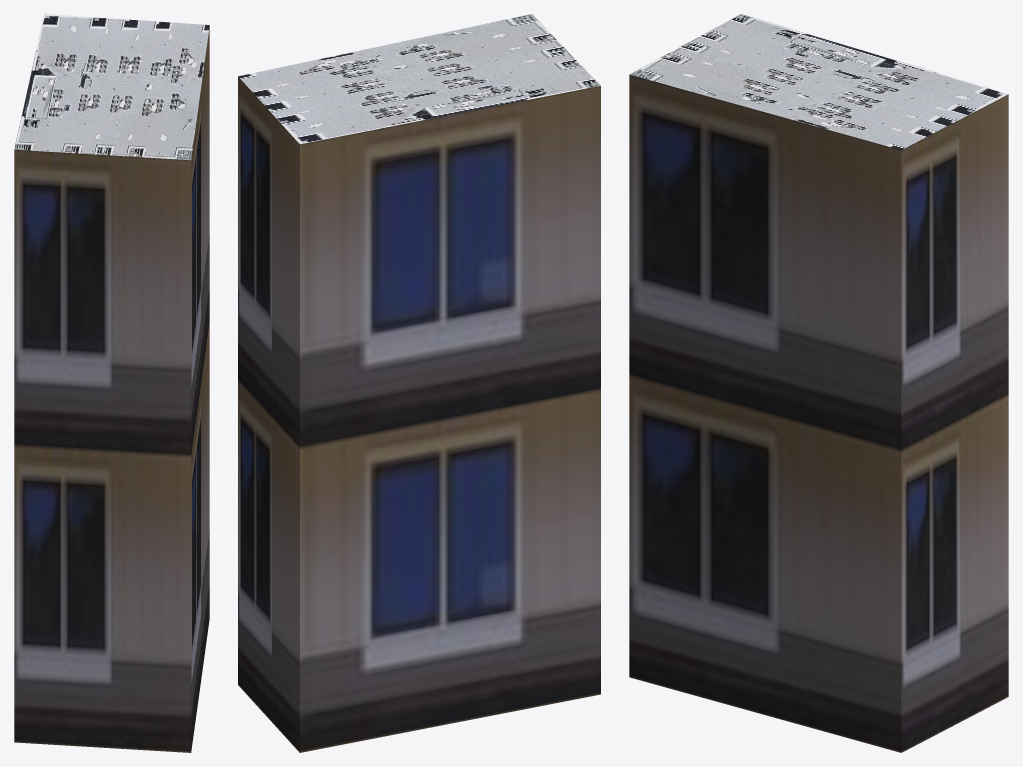
Rendered from ResTex__2152.fbx.
3 renders of one model, left to right at view 1: azimuth 30°, elevation 25°; view 2: azimuth 150°, elevation 25°; view 3: azimuth 270°, elevation 25°, orthographic. The views are drawn at different scales.
Visible parts, largest first — view 1: CityEngineMaterial_5_m, CityEngineMaterial_8_m; view 2: CityEngineMaterial_5_m, CityEngineMaterial_8_m; view 3: CityEngineMaterial_5_m, CityEngineMaterial_8_m.
Part boxes in pixels (box(x1,y1,x2,y2)): CityEngineMaterial_5_m: box(14, 27, 209, 752); CityEngineMaterial_8_m: box(14, 14, 209, 160); CityEngineMaterial_5_m: box(238, 76, 600, 752); CityEngineMaterial_8_m: box(238, 14, 600, 144); CityEngineMaterial_5_m: box(629, 74, 1008, 752); CityEngineMaterial_8_m: box(629, 14, 1008, 149).
Bounding box in the file's own units: 2.91 × 6 × 3.42.
Materials: 2 (2 with a texture image).
